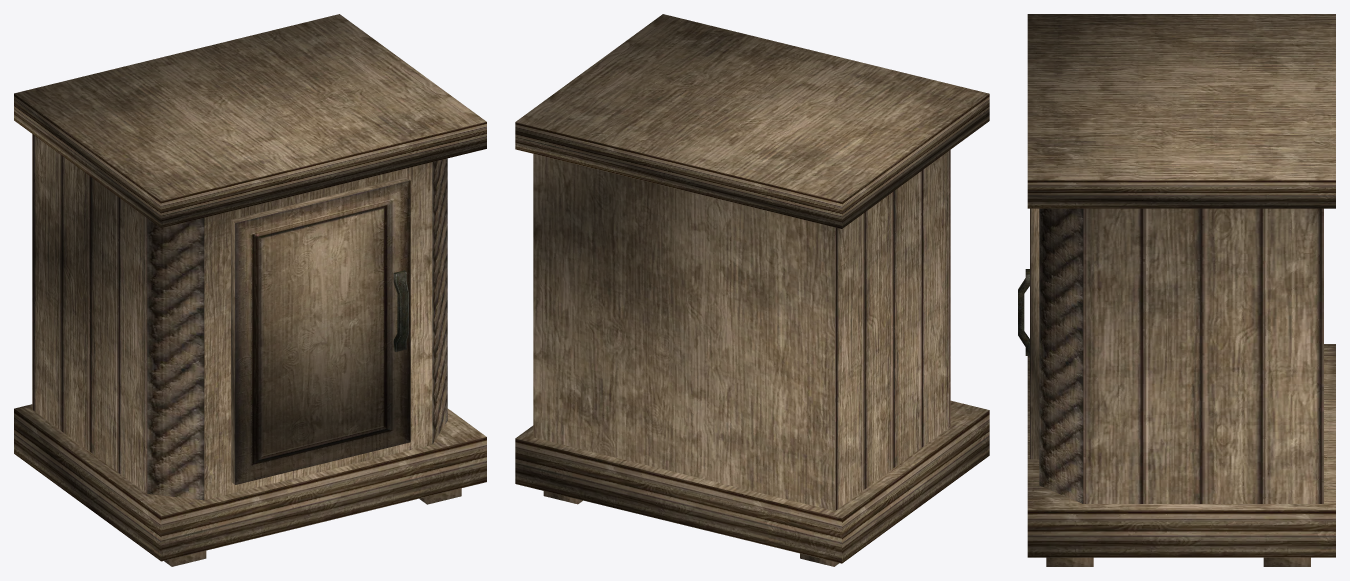
File: GS_VOB_BEDCASE_YELLOW_01_KOZA.glb
The picture shows the model from 3 angles, left to right: view 1: azimuth 30°, elevation 25°; view 2: azimuth 150°, elevation 25°; view 3: azimuth 270°, elevation 25°; orthographic projection. The views are drawn at different scales.
Visible parts, largest first — view 1: Mesh; view 2: Mesh; view 3: Mesh.
Boxes of the visible parts, x1=… form: Mesh: x1=14, y1=14, x2=486, y2=566; Mesh: x1=515, y1=14, x2=989, y2=566; Mesh: x1=1018, y1=14, x2=1335, y2=566.
Bounding box in the file's own units: 0.8159 × 0.9034 × 0.6589.
4 materials, 4 textured.
